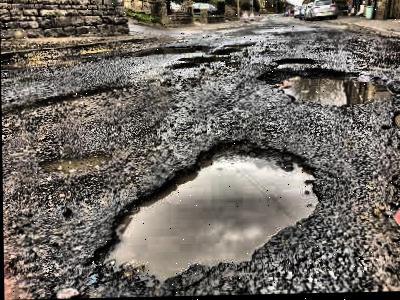pothole: (87, 134, 323, 287), (254, 66, 394, 109), (35, 149, 113, 176), (131, 44, 215, 58), (212, 42, 256, 60), (271, 57, 315, 68), (391, 112, 400, 132)
